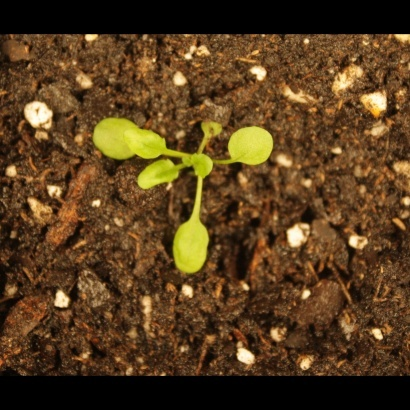leaf: (167, 212, 217, 286), (92, 106, 142, 166), (226, 120, 275, 170), (135, 160, 182, 194), (123, 123, 171, 156), (189, 150, 221, 185), (198, 109, 225, 146)
